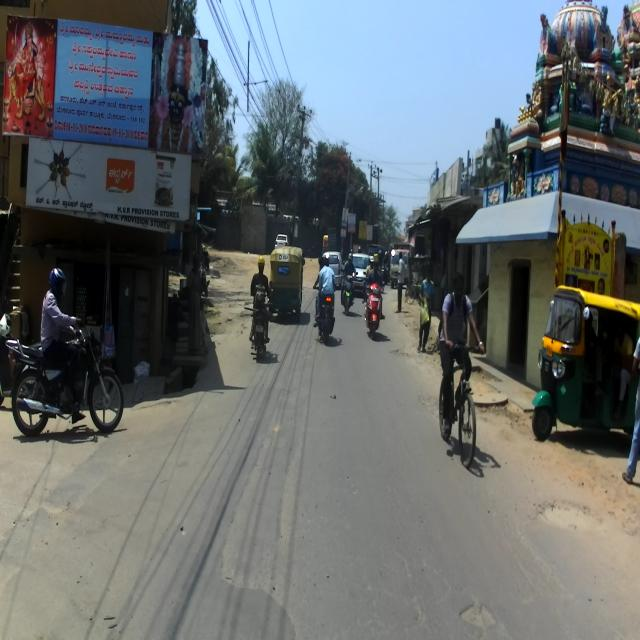auto ahead at: (531, 285, 640, 455)
bicycle ahead at: (434, 338, 482, 476)
motorcycle ahead at: (8, 313, 130, 439)
